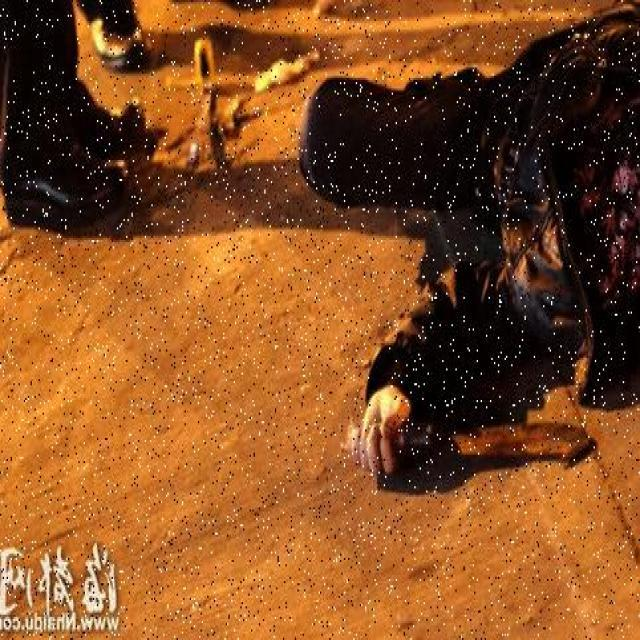fall: (302, 12, 638, 474)
